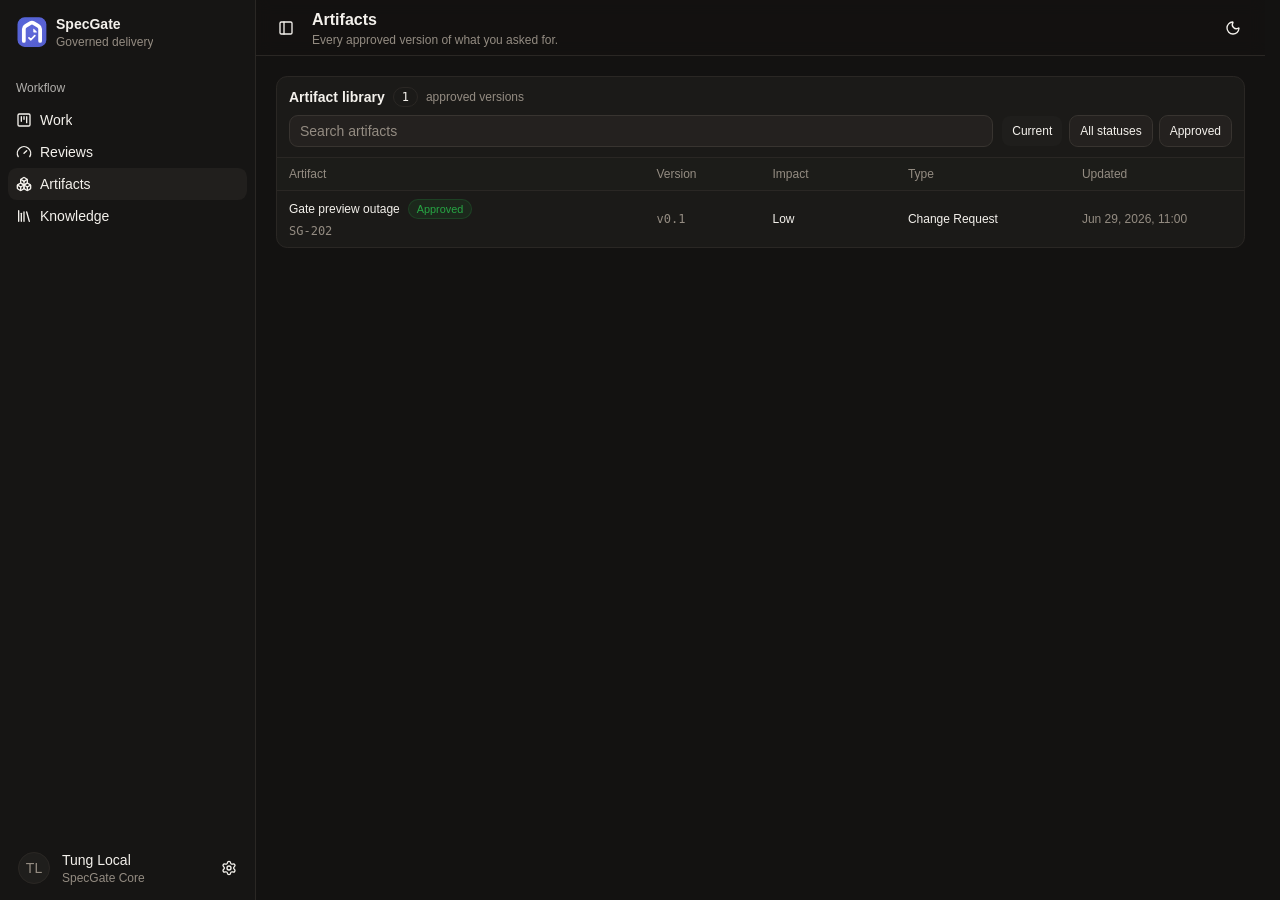
SpecGate UI shell: artifact evidence › shows a live no-fallback error when artifact gate preview is unavailable
This screenshot has width=1280, height=900.
Expected: the text "Gate preview outage" is shown, left=289, top=201, right=400, bottom=217
Click the button "Gate preview outage Approved SG-202" at (381, 219), box left=289, top=199, right=472, bottom=239
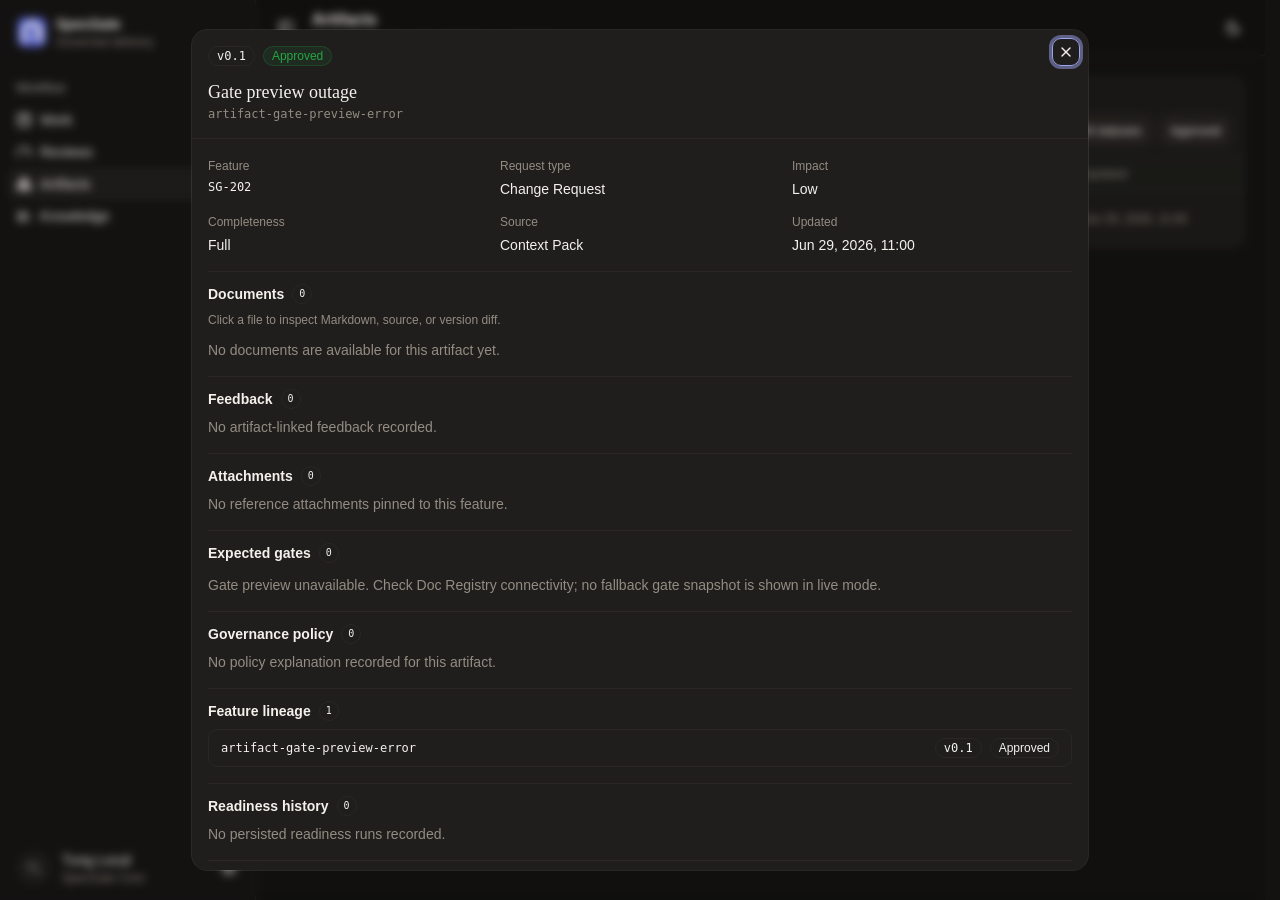
Expected: the text "no fallback gate snapshot is shown" is shown, left=208, top=577, right=881, bottom=593
